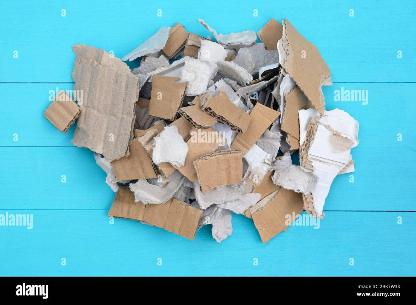Others: (42, 19, 359, 244)
